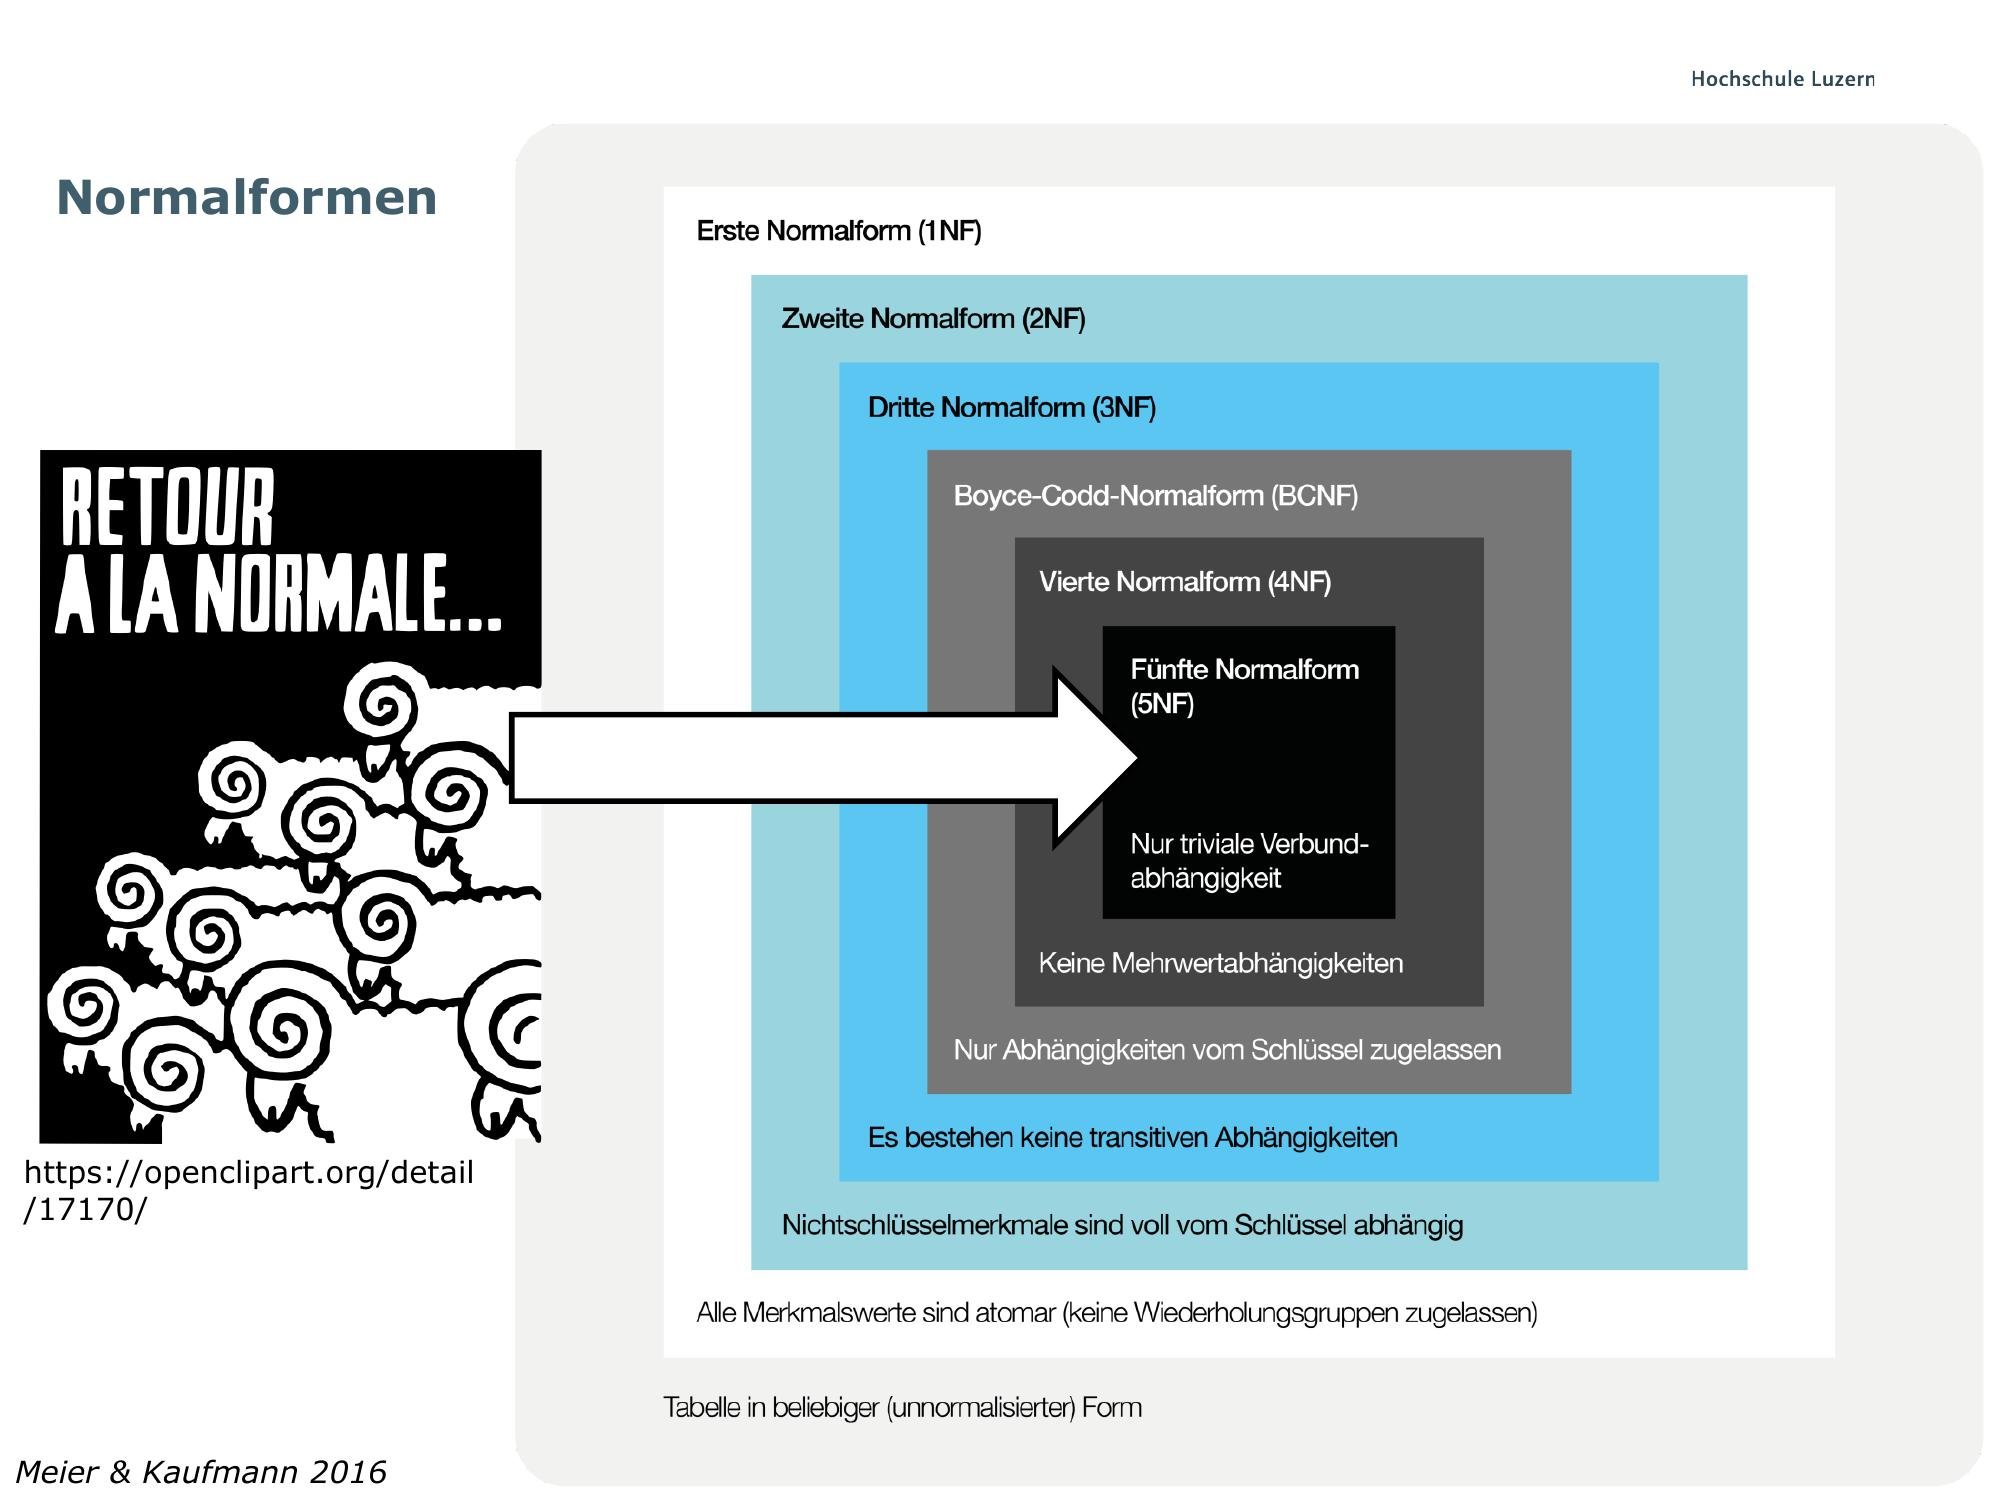Title: (31, 137, 455, 241)
